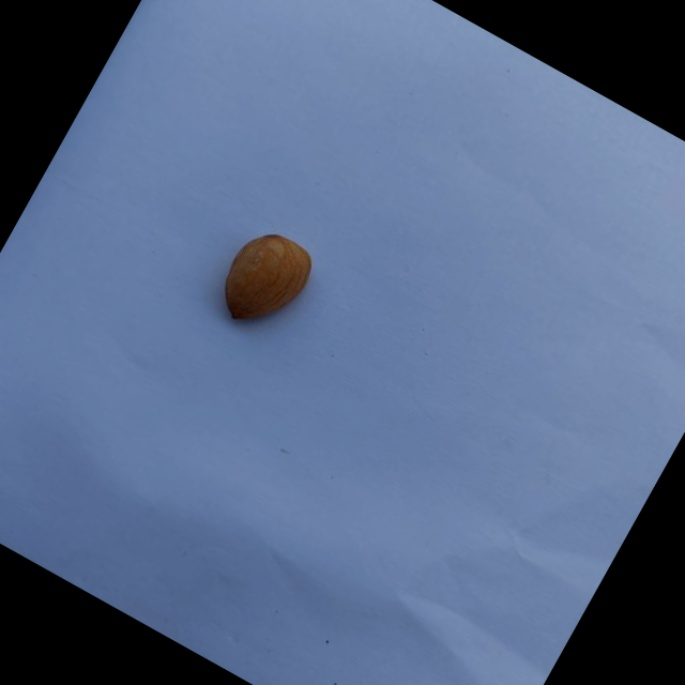grade2: (204, 216, 329, 347)
